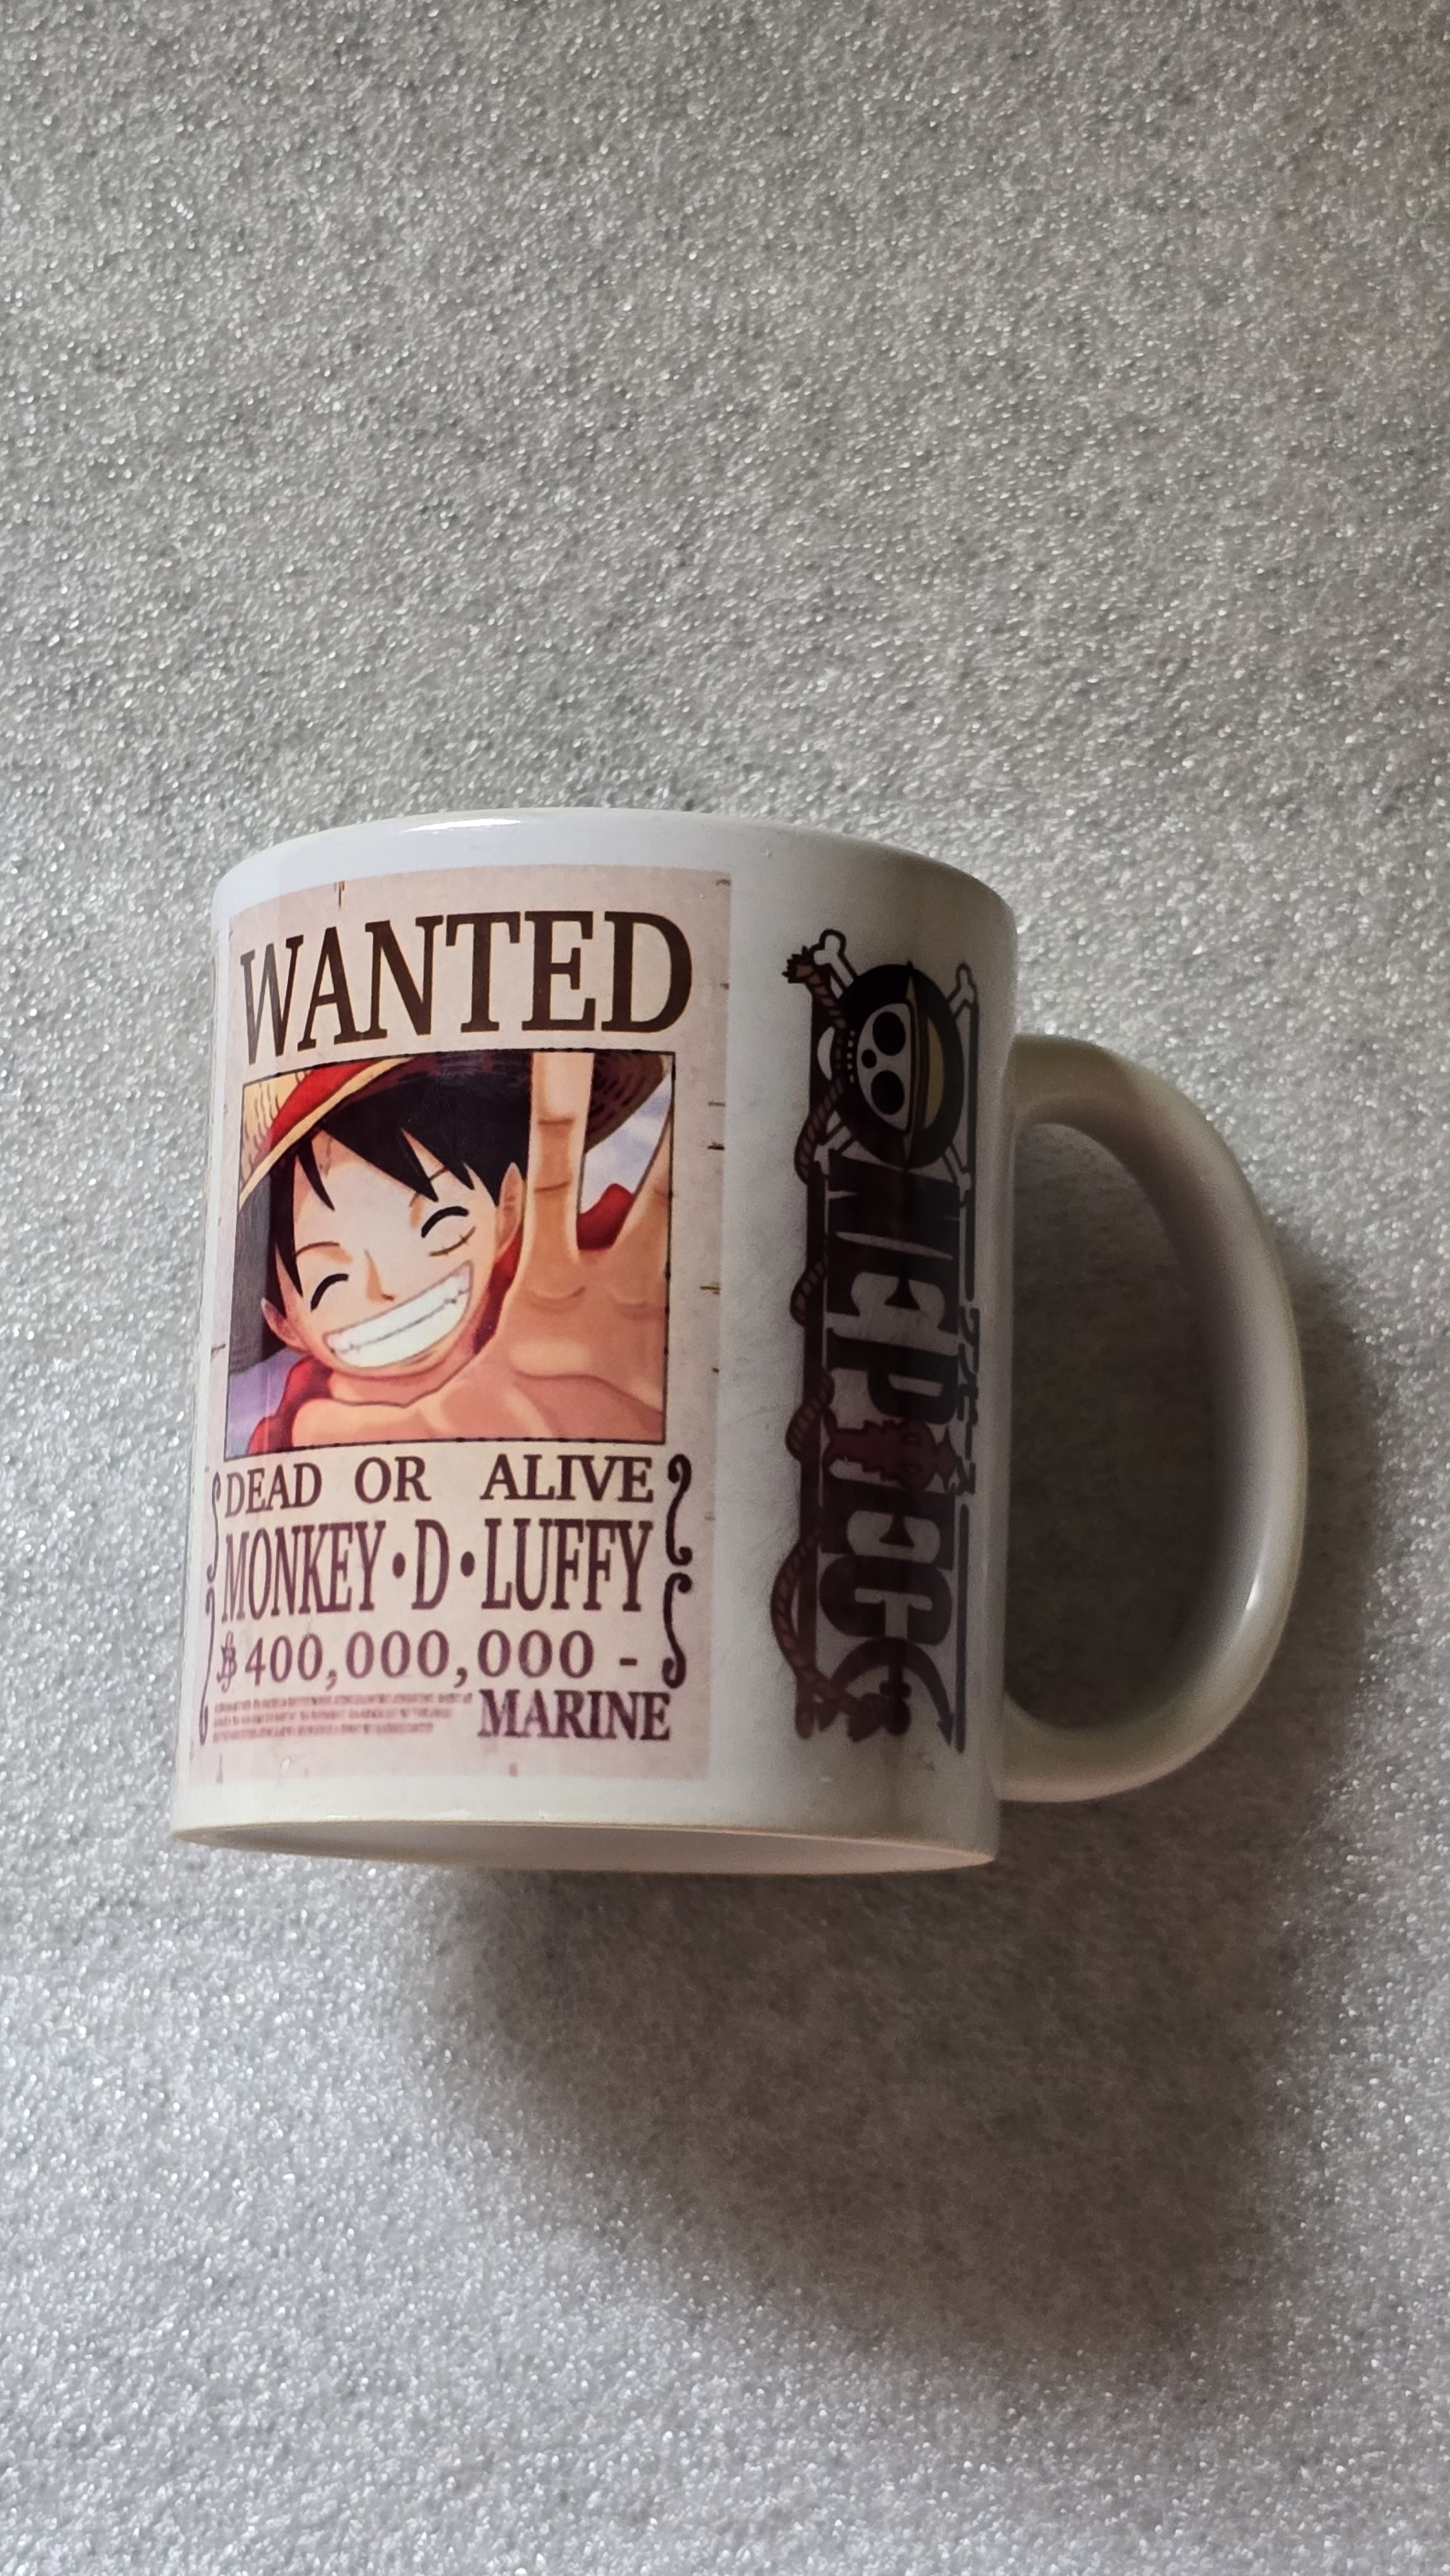mug: (147, 791, 1344, 1943)
